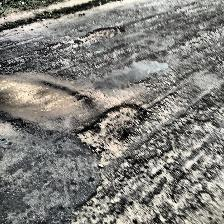pothole: (73, 102, 147, 160), (77, 25, 125, 42)
